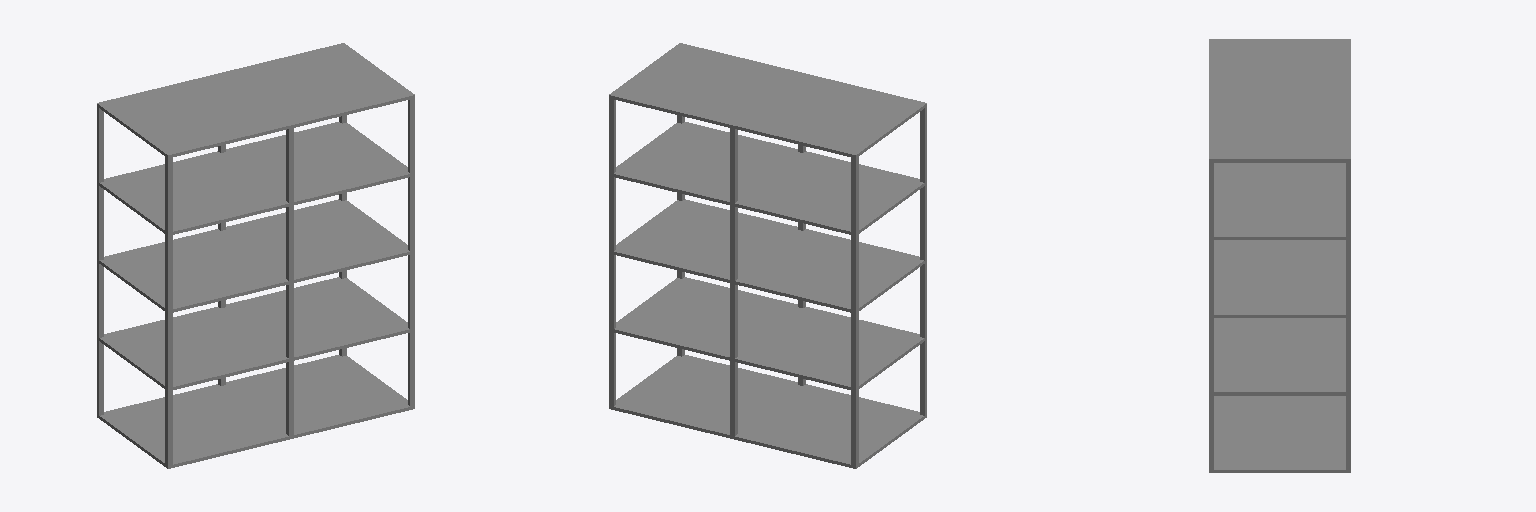
Rendered from Shelf.obj.
The picture shows the model from 3 angles: view 1: azimuth 30°, elevation 25°; view 2: azimuth 150°, elevation 25°; view 3: azimuth 270°, elevation 25°; orthographic projection.
Visible parts, largest first — view 1: StorageShelf; view 2: StorageShelf; view 3: StorageShelf.
Boxes of the visible parts, box(x1,y1,x2,y2) form: StorageShelf: box(97, 43, 414, 468); StorageShelf: box(609, 43, 926, 468); StorageShelf: box(1209, 39, 1350, 472).
Size of the model in its own units: 2000 by 2425 by 1000.